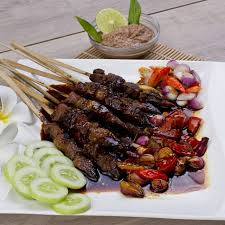sate: (33, 57, 218, 212)
